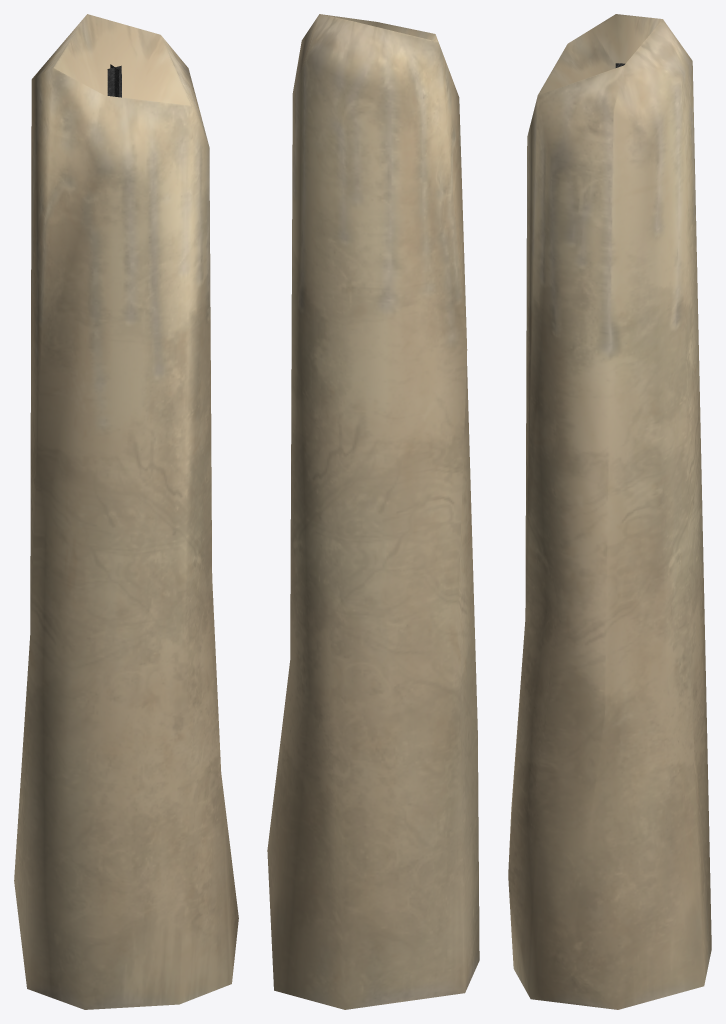
The model's file is SM_Candle_02.fbx.
3 renders of one model, left to right at view 1: azimuth 30°, elevation 25°; view 2: azimuth 150°, elevation 25°; view 3: azimuth 270°, elevation 25°, orthographic. The views are drawn at different scales.
Visible parts, largest first — view 1: SM_Candle_02_LOD0; view 2: SM_Candle_02_LOD0; view 3: SM_Candle_02_LOD0.
Boxes of the visible parts, <box> form: SM_Candle_02_LOD0: <box>14,14,238,1009</box>; SM_Candle_02_LOD0: <box>267,14,479,1009</box>; SM_Candle_02_LOD0: <box>508,14,711,1009</box>.
Size of the model in its own units: 11.07 by 10.35 by 52.83.
1 material, 1 textured.
